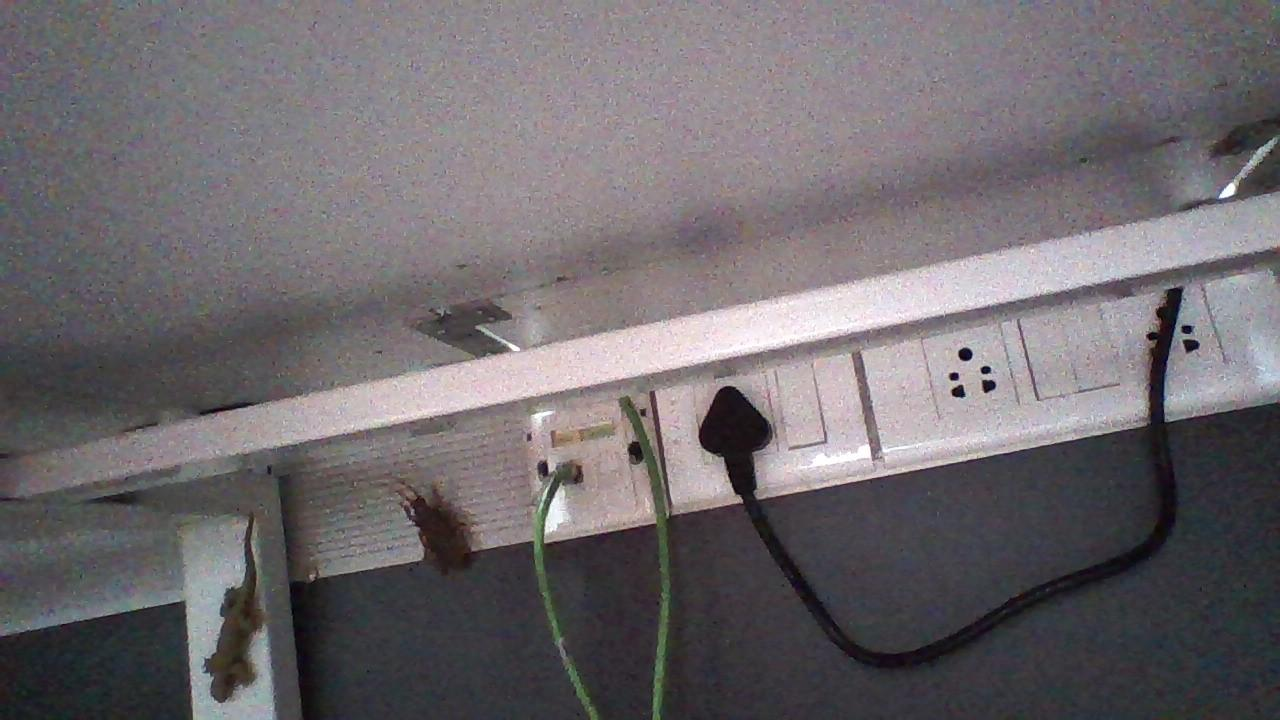cockroach: (386, 466, 481, 580)
lizard: (203, 497, 270, 710)
